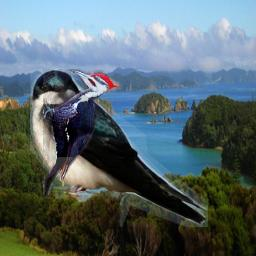Swallow: (30, 68, 208, 227)
Woodpecker: (43, 69, 123, 201)
